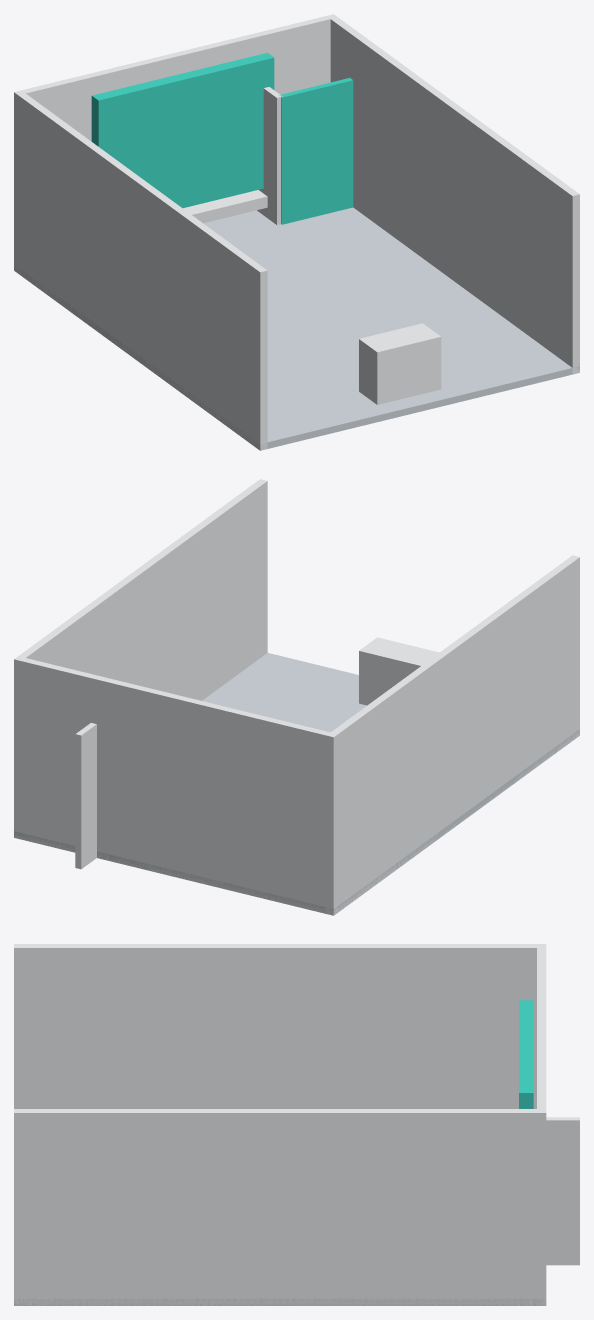
3 views of the same model, one above another, from view 1: azimuth 30°, elevation 25°; view 2: azimuth 150°, elevation 25°; view 3: azimuth 270°, elevation 25° (orthographic). The views are drawn at different scales.
Parts seen in each view (by area): view 1: Exhibition Booth Concept; view 2: Exhibition Booth Concept; view 3: Exhibition Booth Concept.
Part boxes in pixels (x1,y1,x2,y2): Exhibition Booth Concept: (14,14,579,450); Exhibition Booth Concept: (14,479,579,915); Exhibition Booth Concept: (14,944,579,1305).
Bounding box in the file's own units: 6 × 3.2 × 8.51.
